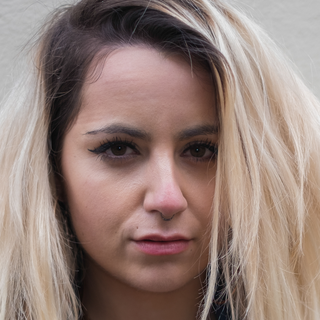eye: (86, 133, 145, 163), (172, 136, 222, 165)
